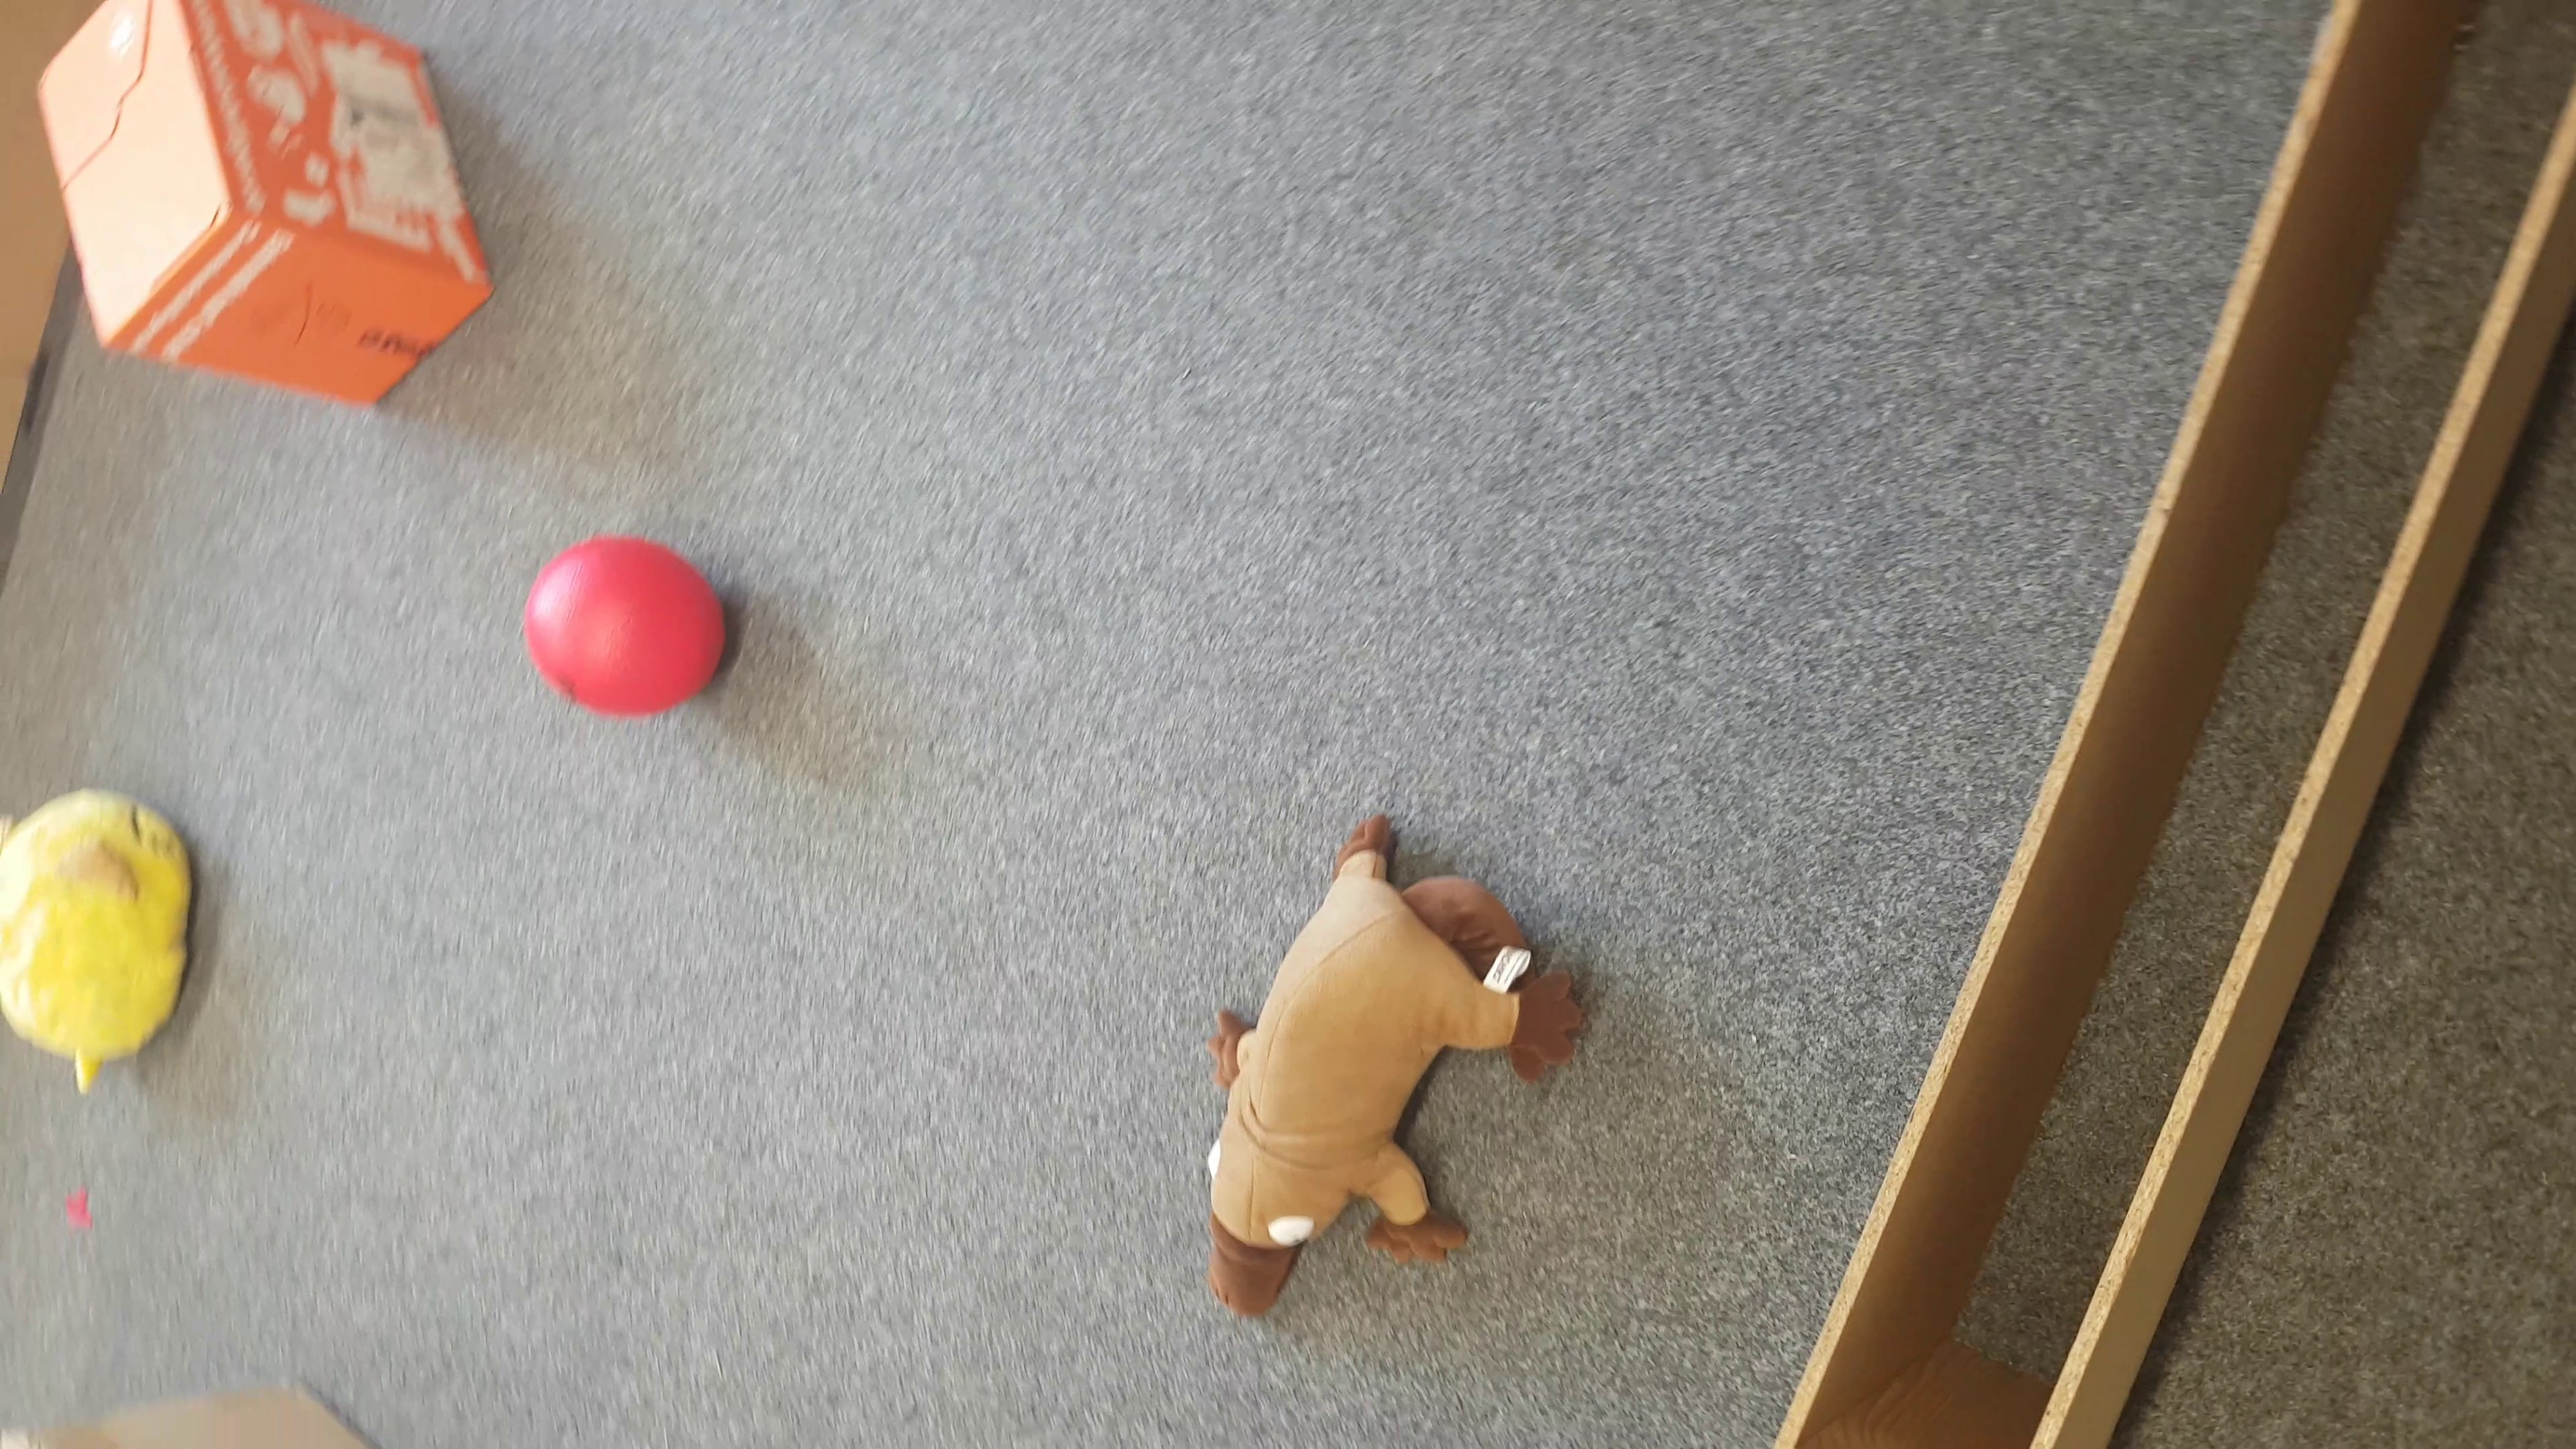grasp: (1203, 817, 1589, 1323), (2, 789, 196, 1077)
kick: (524, 533, 732, 717)
push: (35, 2, 494, 410)
